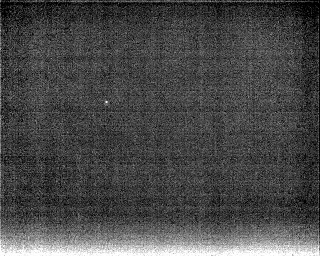BIRD: (102, 98, 111, 108)
